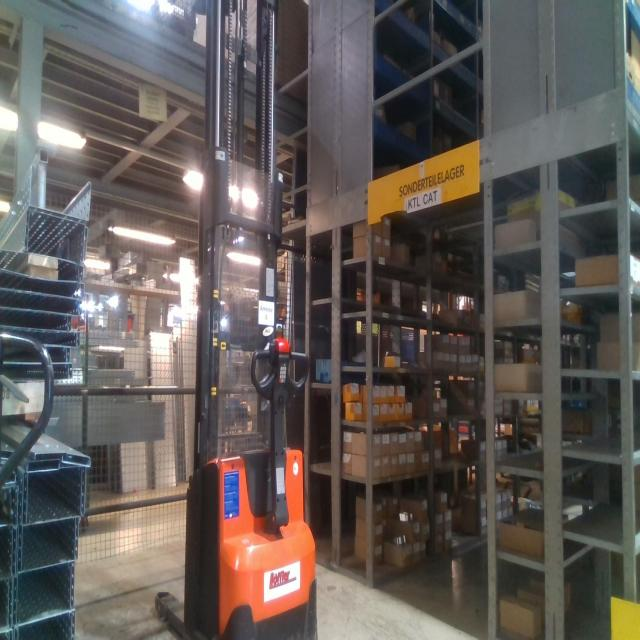pallet_truck: (155, 0, 319, 638), (1, 321, 56, 512)
small_load_carrier: (314, 359, 331, 383)
